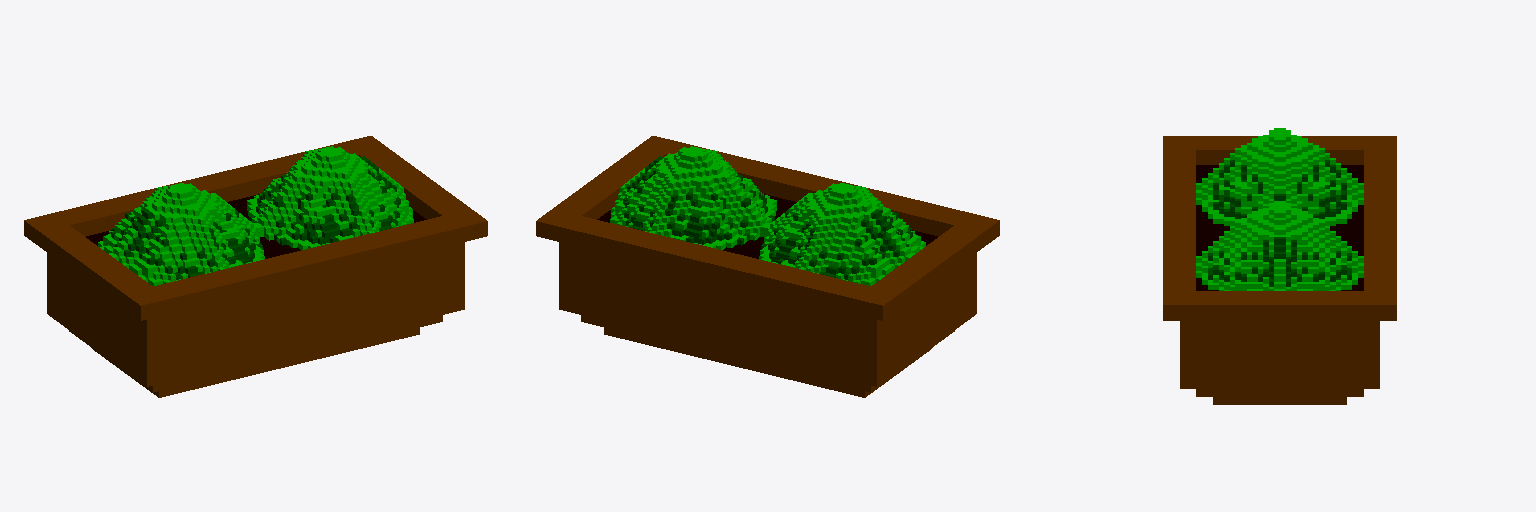
3 views of the same model, side by side, from view 1: azimuth 30°, elevation 25°; view 2: azimuth 150°, elevation 25°; view 3: azimuth 270°, elevation 25° (orthographic).
Parts seen in each view (by area): view 1: object 1; view 2: object 1; view 3: object 1.
Boxes of the visible parts, x1=… form: object 1: x1=24, y1=136, x2=487, y2=397; object 1: x1=536, y1=136, x2=999, y2=397; object 1: x1=1163, y1=128, x2=1396, y2=404.
Size of the model in its own units: 7.2 by 3.4 by 4.2.
1 materials, 1 textured.